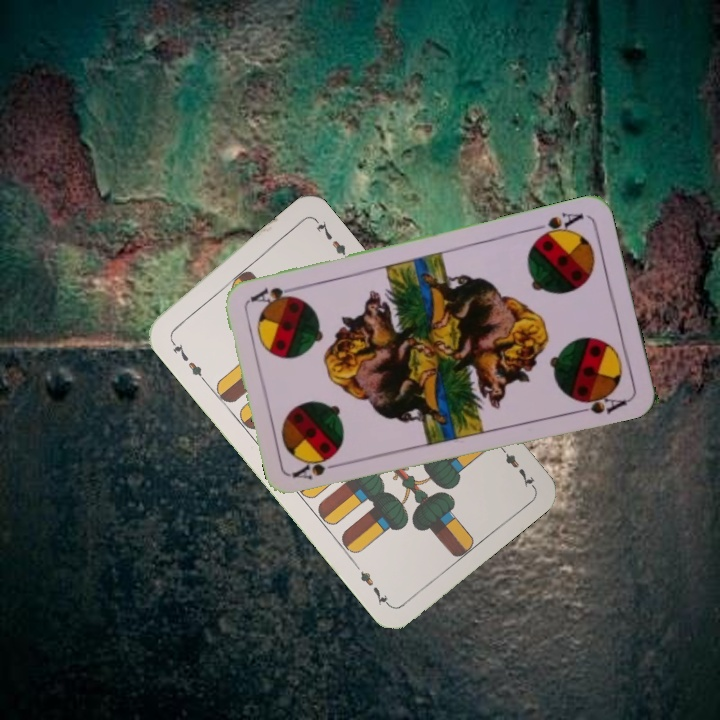E7: (165, 334, 208, 384), (494, 440, 537, 490)
SA: (528, 208, 587, 243), (290, 457, 349, 482)
